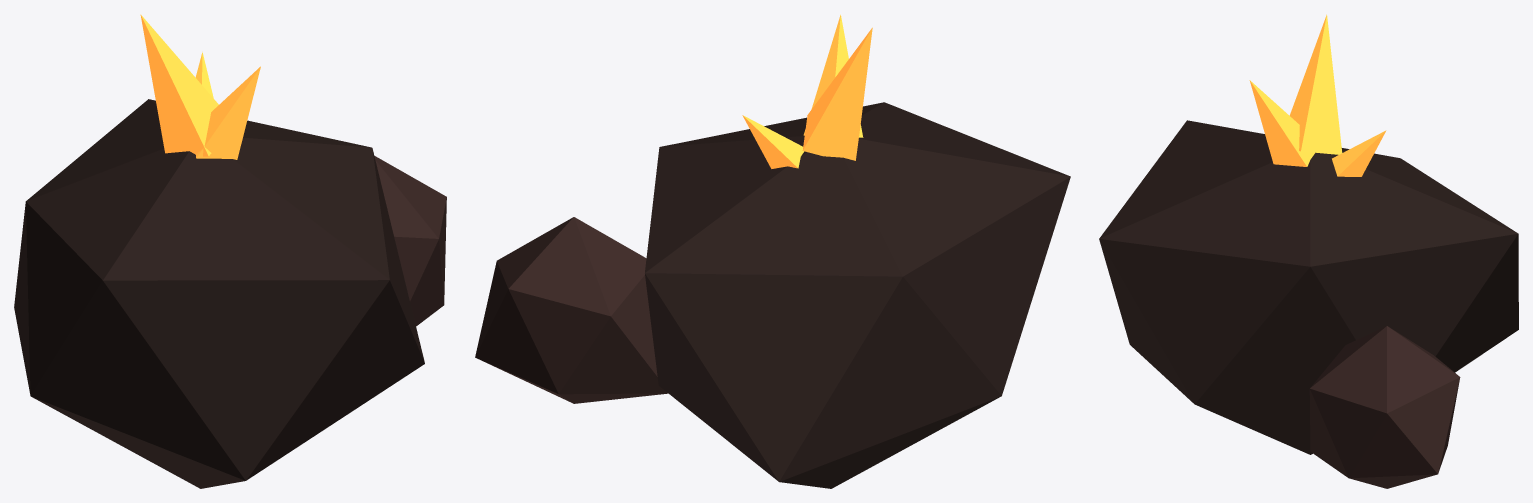
File: lava_rock.glb
3 renders of one model, left to right at view 1: azimuth 30°, elevation 25°; view 2: azimuth 150°, elevation 25°; view 3: azimuth 270°, elevation 25°, orthographic. The views are drawn at different scales.
Parts seen in each view (by area): view 1: lava_rock; view 2: lava_rock; view 3: lava_rock.
Part boxes in pixels (box(x1,y1,x2,y2)): lava_rock: box(14, 14, 446, 488); lava_rock: box(475, 14, 1070, 488); lava_rock: box(1099, 14, 1518, 488).
Size of the model in its own units: 3.03 by 3.02 by 2.74.
